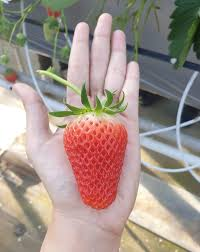ripe: (63, 107, 134, 214)
